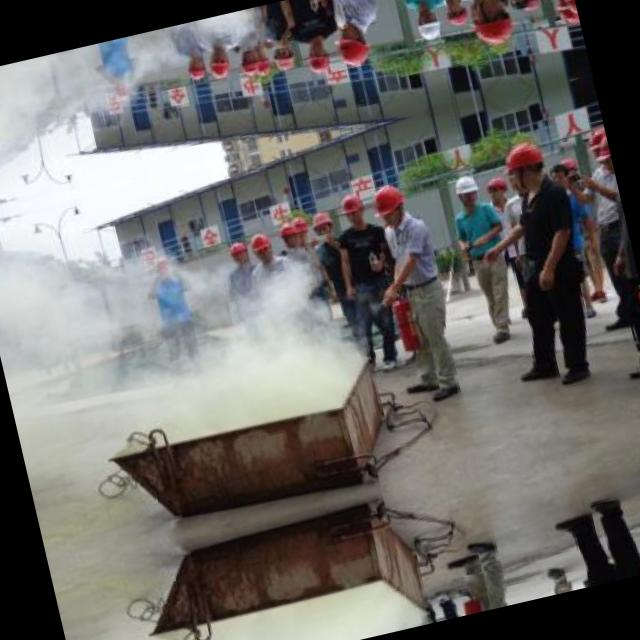helmet: (496, 132, 552, 195), (462, 0, 519, 51), (329, 22, 374, 70), (366, 178, 410, 226), (334, 188, 368, 230), (299, 34, 333, 76), (584, 121, 610, 172), (246, 228, 278, 268), (449, 171, 482, 209), (202, 40, 235, 78), (411, 4, 444, 42), (268, 38, 297, 73), (307, 206, 336, 240), (274, 218, 300, 248), (482, 174, 508, 204), (235, 47, 260, 77), (182, 52, 208, 80), (551, 0, 577, 28), (440, 0, 467, 26), (226, 238, 250, 266), (289, 212, 311, 241), (251, 48, 273, 76)
